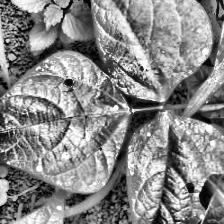Bean Rust: (0, 49, 130, 193), (80, 0, 214, 103), (127, 115, 224, 224)
